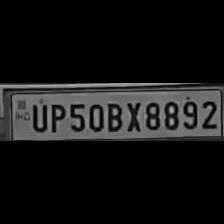0: (86, 100, 104, 132)
2: (198, 98, 218, 130)
5: (66, 100, 86, 132)
8: (142, 98, 160, 132), (162, 98, 180, 130)
9: (180, 98, 198, 130)
B: (104, 100, 122, 132)
P: (47, 100, 65, 134)
U: (27, 102, 47, 132)
X: (123, 100, 141, 132)
